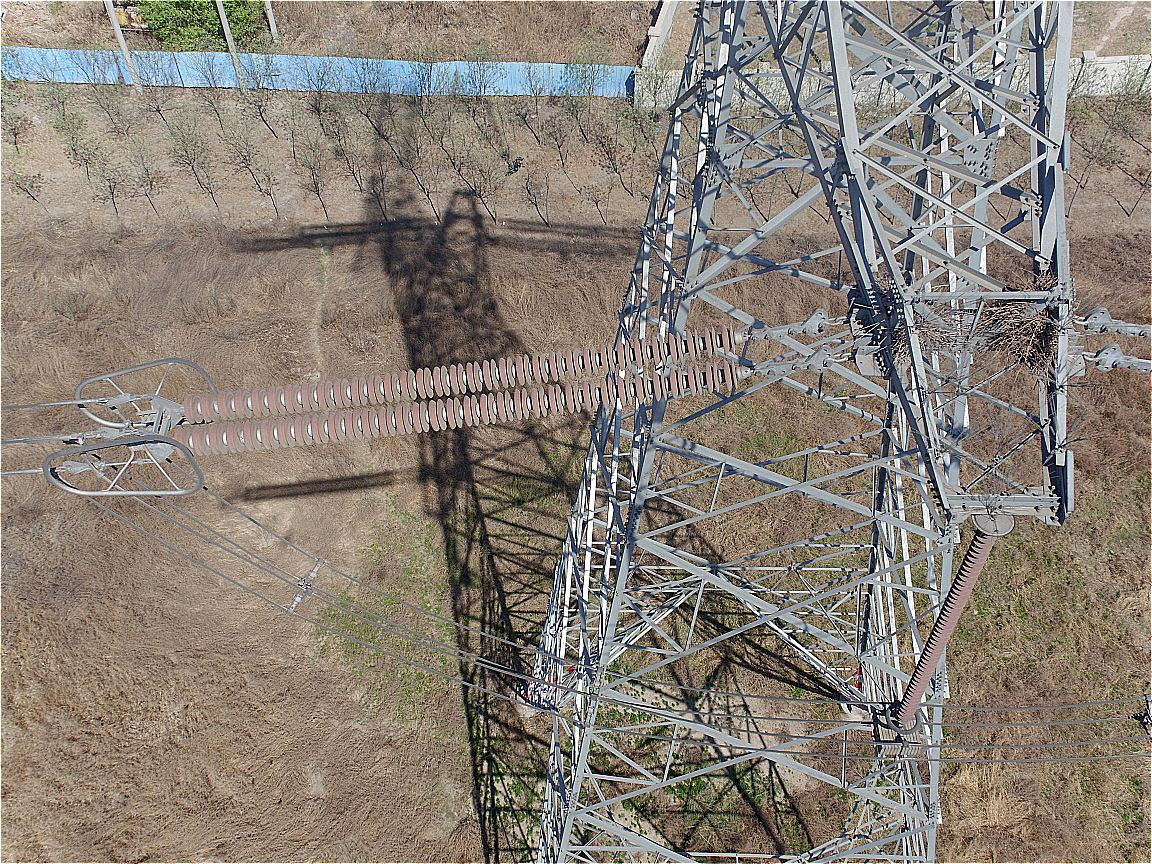insultor2: (187, 326, 742, 459)
